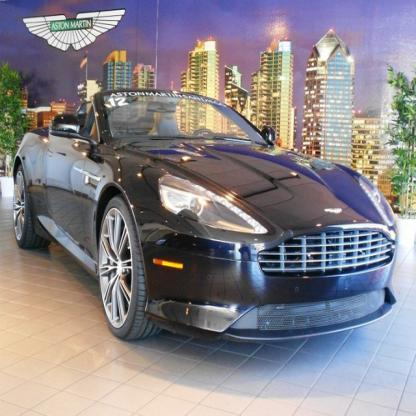Vehicle: (11, 85, 404, 353)
